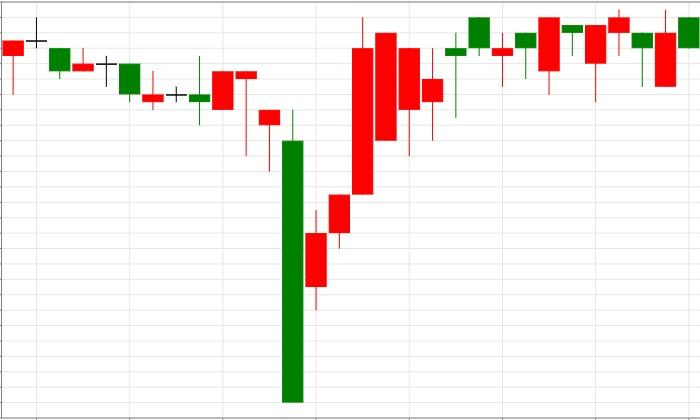three_white_soldiers_rise: (235, 16, 373, 403)
